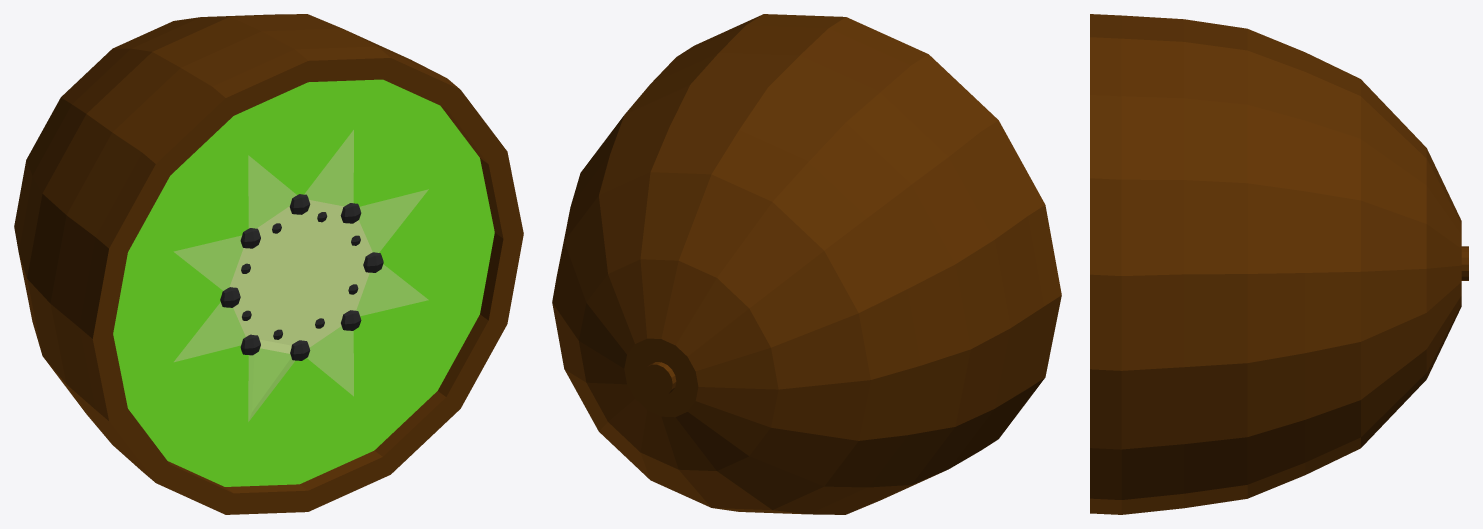
File: kiwis_0.fbx
3 views of the same model, side by side, from view 1: azimuth 30°, elevation 25°; view 2: azimuth 150°, elevation 25°; view 3: azimuth 270°, elevation 25° (orthographic).
Visible parts, largest first — view 1: kiwis_0; view 2: kiwis_0; view 3: kiwis_0.
Part boxes in pixels (box(x1,y1,x2,y2)): kiwis_0: box(14, 14, 523, 514); kiwis_0: box(552, 14, 1061, 514); kiwis_0: box(1090, 14, 1468, 514).
Size of the model in its own units: 201 by 200 by 151.
